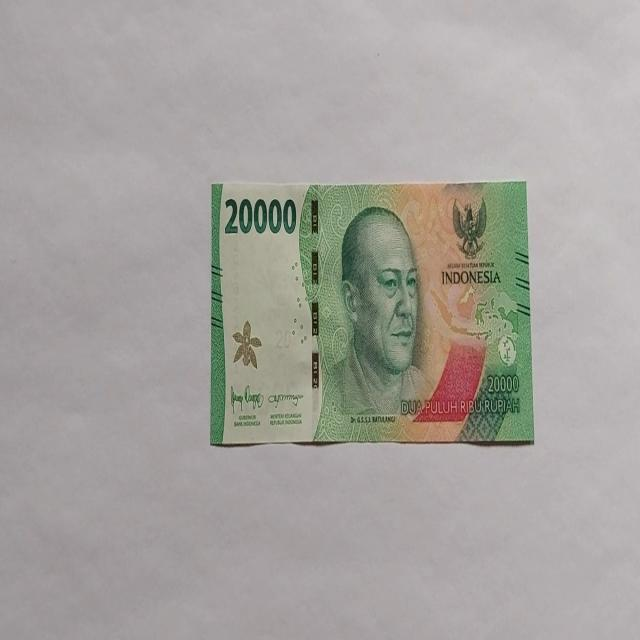dua puluh ribu rupiah: (210, 178, 534, 448), (312, 204, 436, 442)
